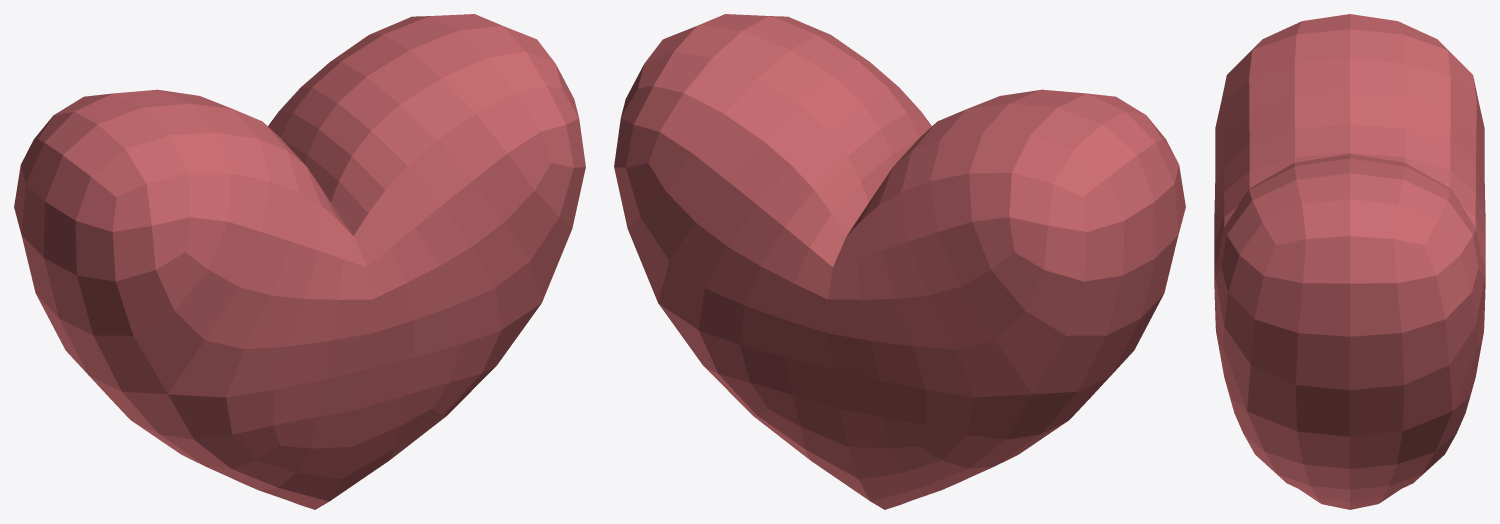
The model's file is SM_Heart.fbx.
3 renders of one model, left to right at view 1: azimuth 30°, elevation 25°; view 2: azimuth 150°, elevation 25°; view 3: azimuth 270°, elevation 25°, orthographic. The views are drawn at different scales.
Visible parts, largest first — view 1: SM_Heart; view 2: SM_Heart; view 3: SM_Heart.
Boxes of the visible parts, x1,y1,x2,y2 form: SM_Heart: (14,14,585,509); SM_Heart: (614,14,1185,509); SM_Heart: (1214,14,1485,509).
Size of the model in its own units: 80.19 by 65.22 by 39.27.
